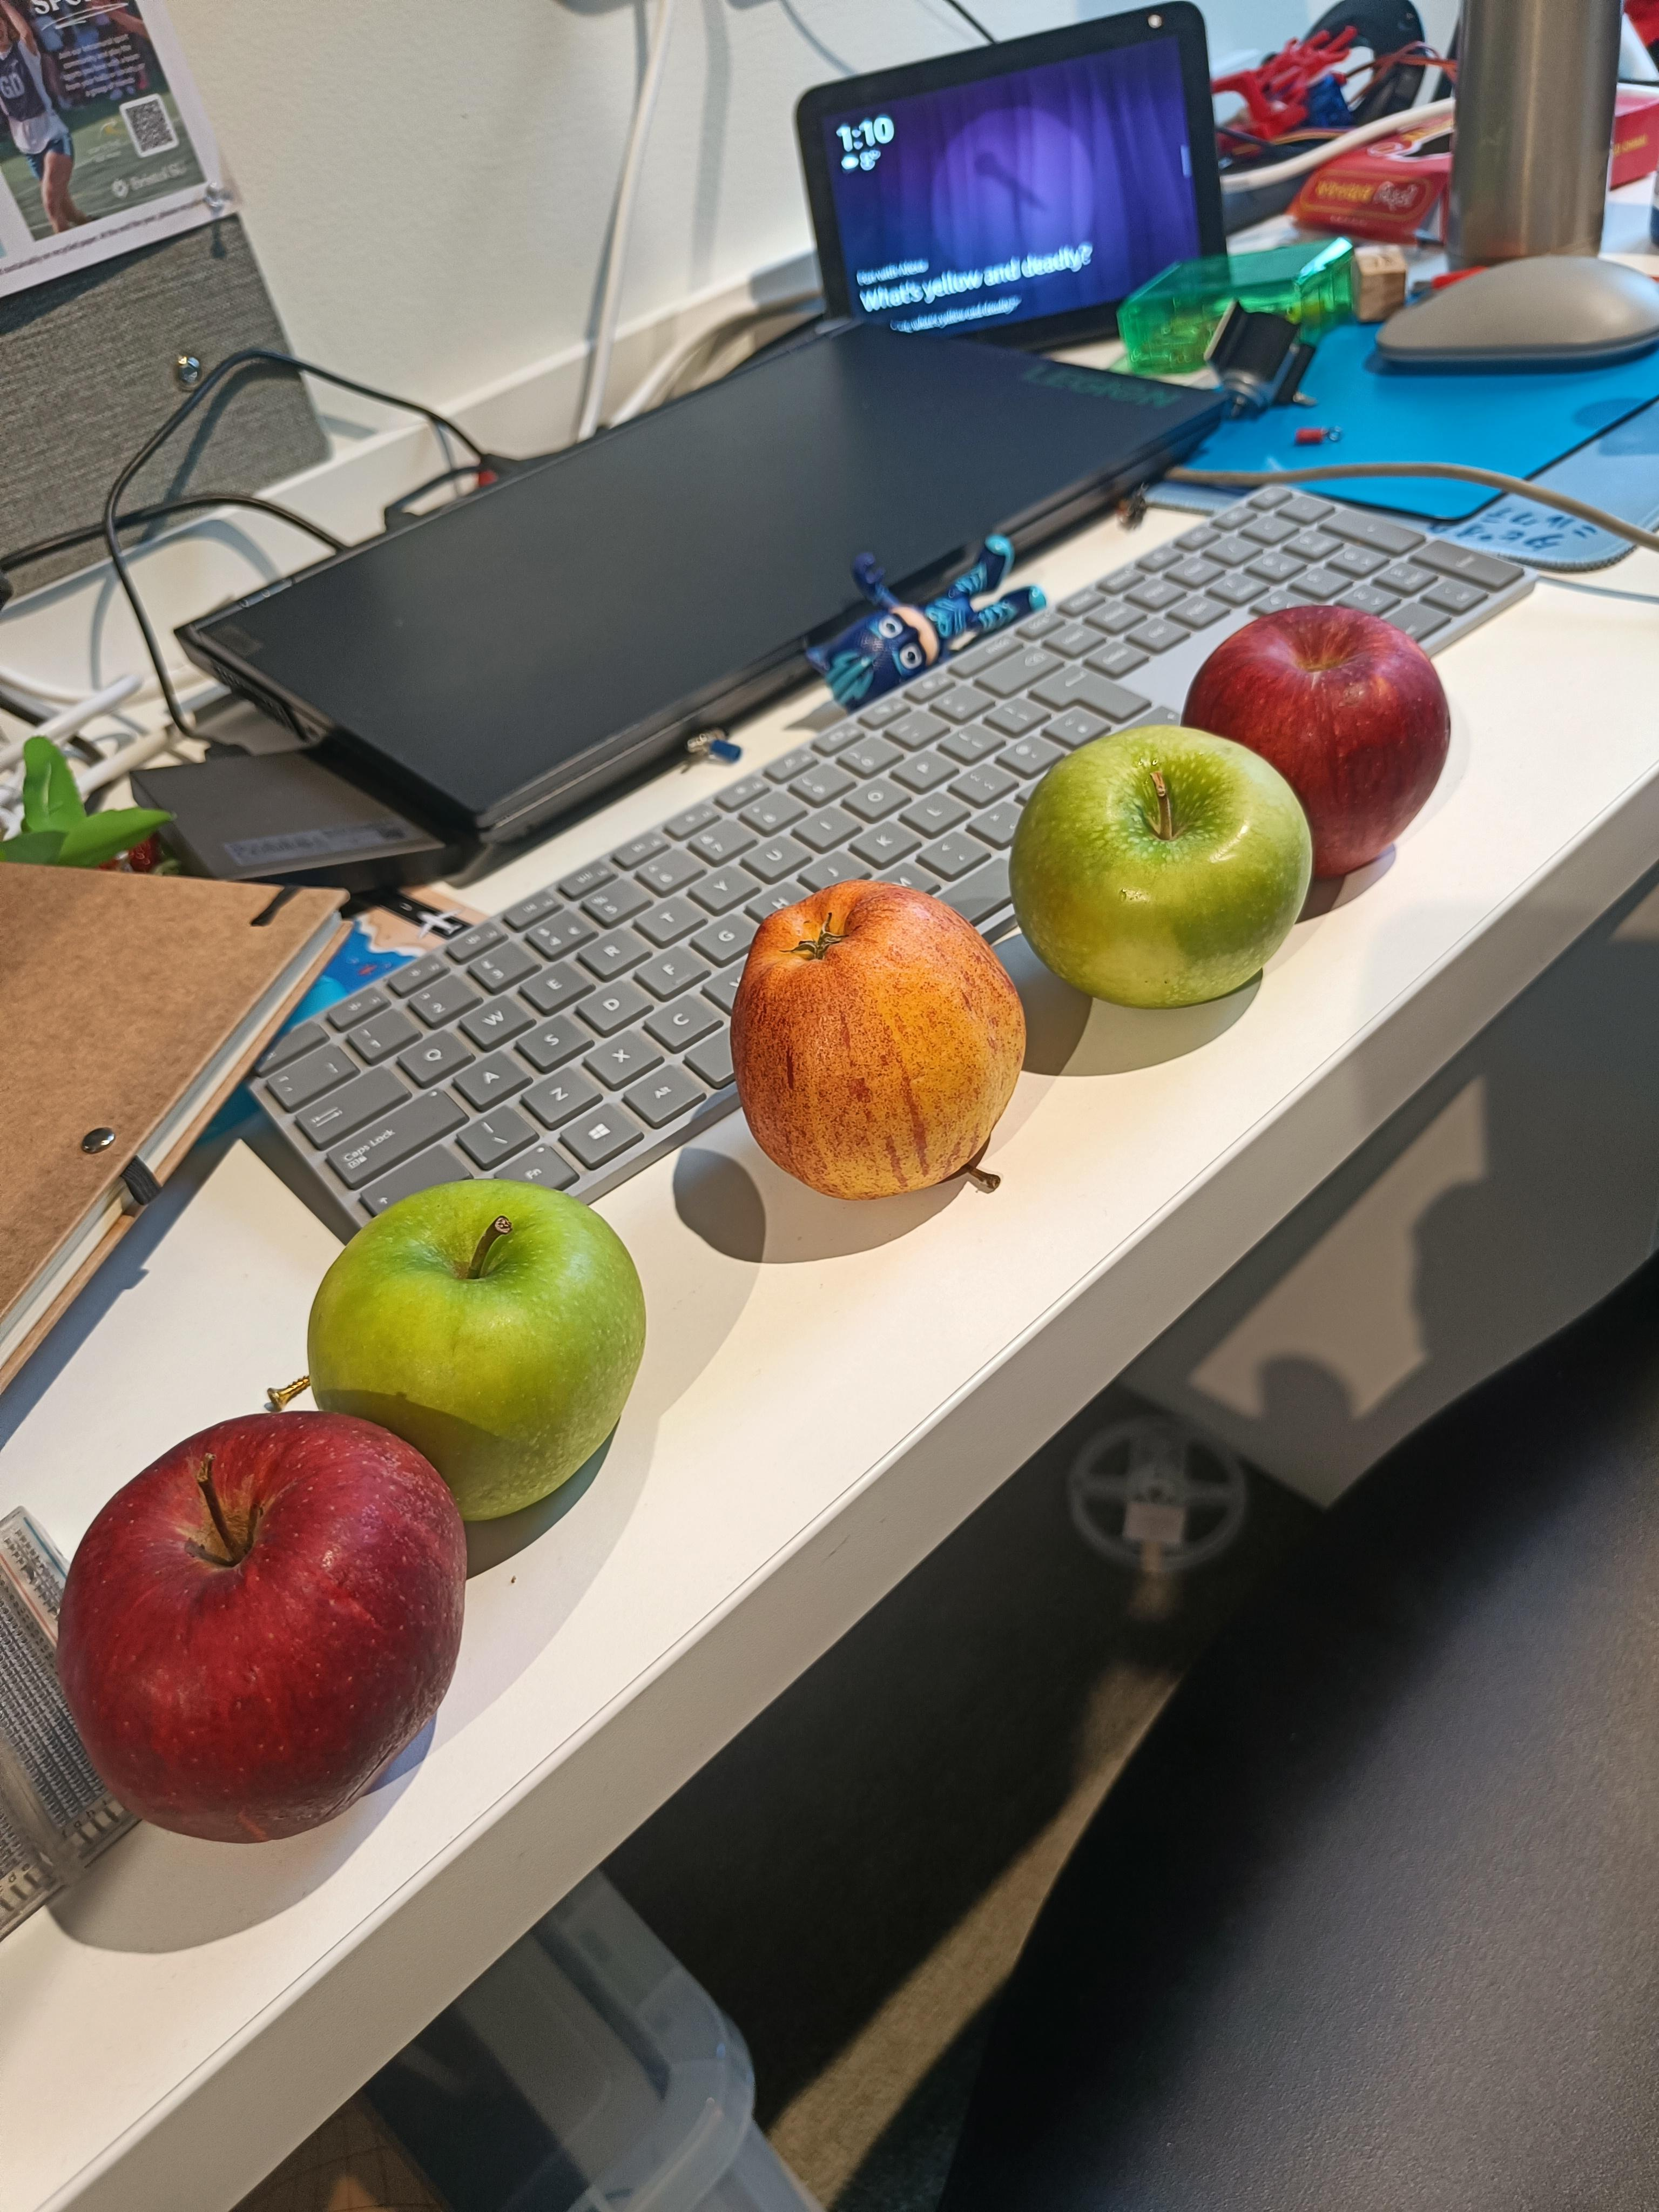Apple: (45, 1400, 476, 1853), (305, 1179, 666, 1538), (737, 866, 1025, 1223), (1007, 709, 1310, 1024), (1190, 583, 1466, 899)
